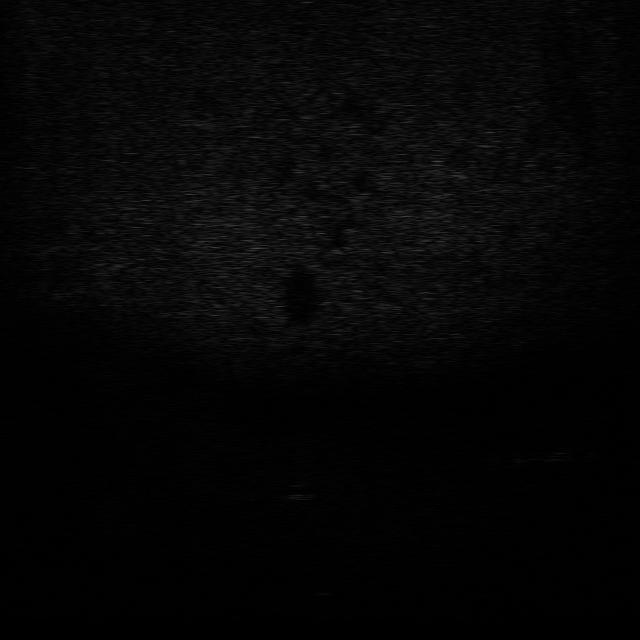ball: (276, 479, 325, 504)
human body: (493, 438, 602, 466)
